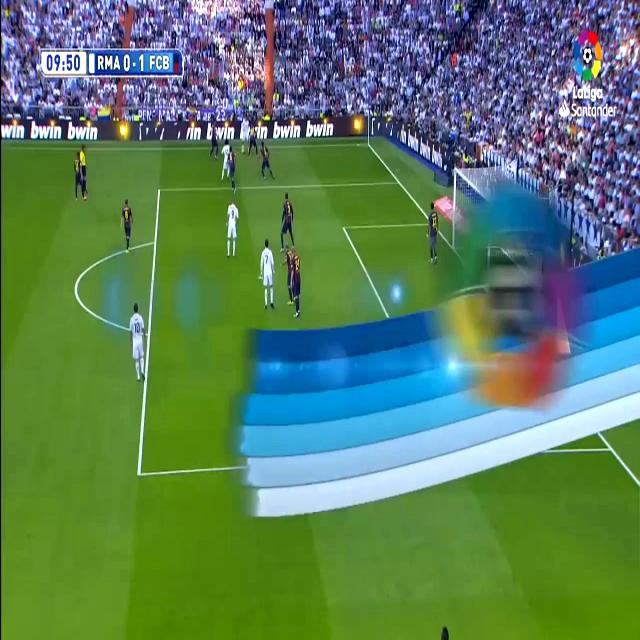bigarea_top_inner: (157, 183, 161, 196)
bigarea_top_outter: (395, 174, 401, 187)
bottom_arc_area_intersection: (606, 436, 616, 459)
corner: (362, 138, 372, 149)
